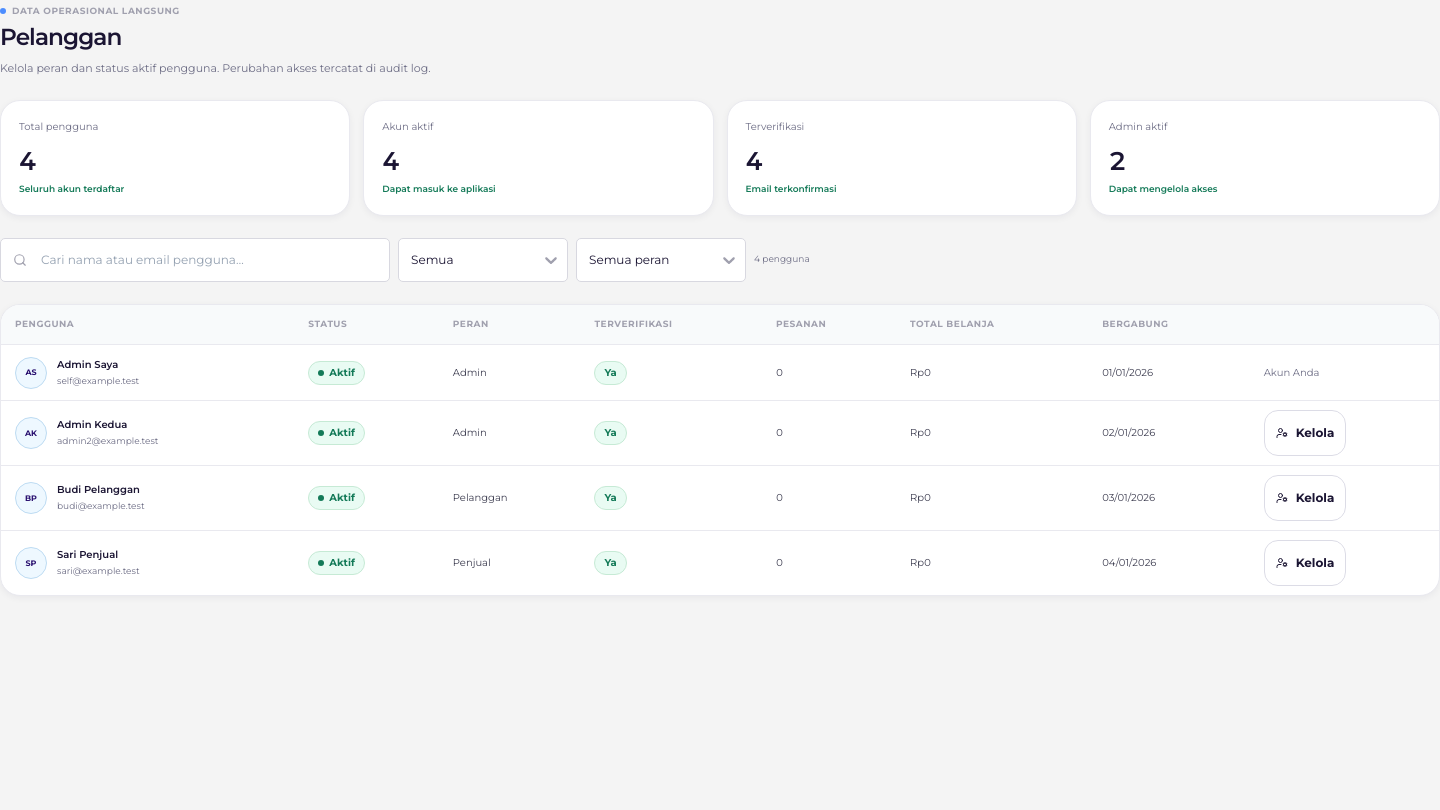
Test: manajemen akses pengguna di /dashboard/customers › menonaktifkan akun dengan konfirmasi dan payload active=false
Expected: the text "Sari Penjual" is shown, [57,548,118,561]
Step 1. Click the button with aria-label "Kelola akses Sari Penjual" → [1305, 563], box [1264,540,1346,586]
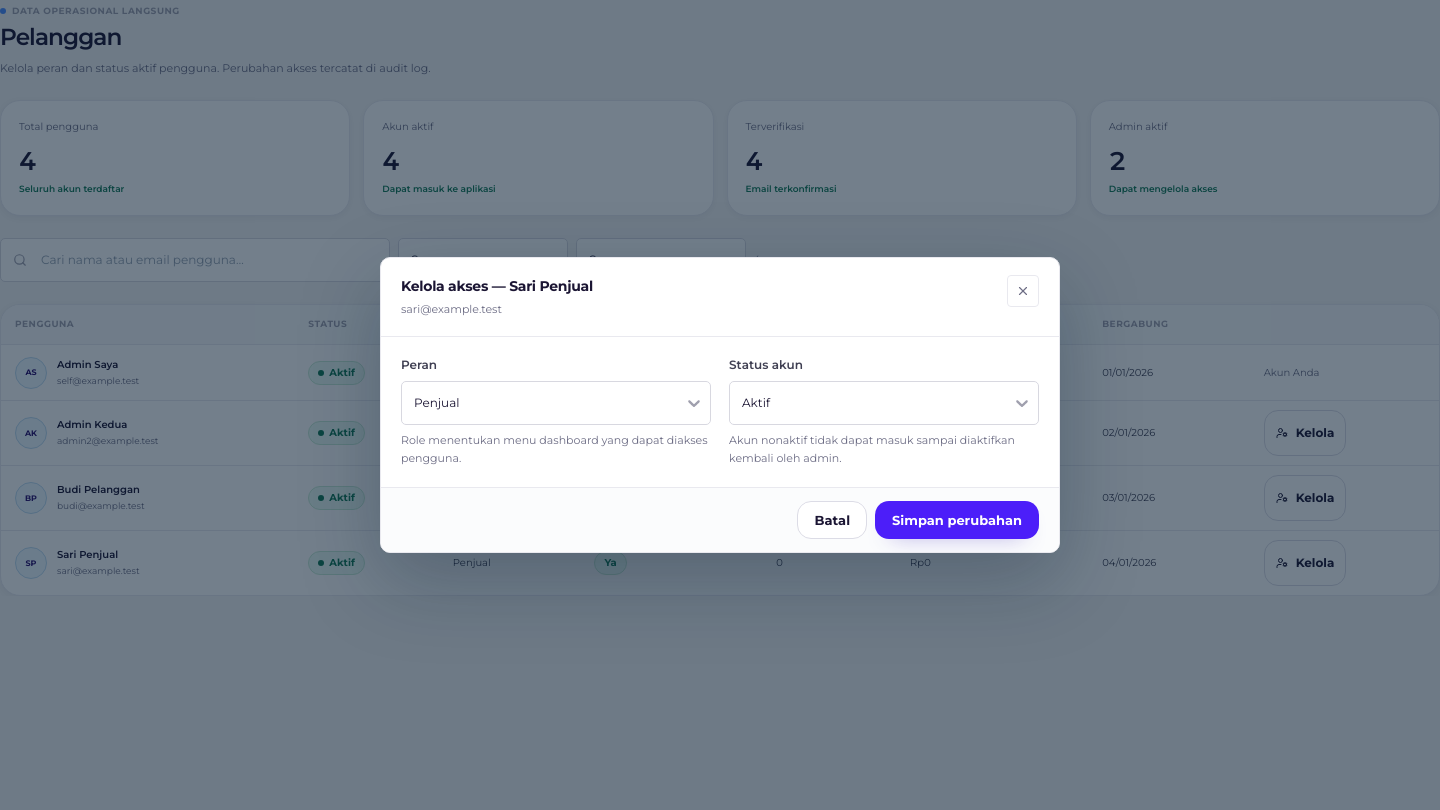
Step 2. Focus the dropdown labelled "Status akun" → [742, 403], box [740,393,743,413]
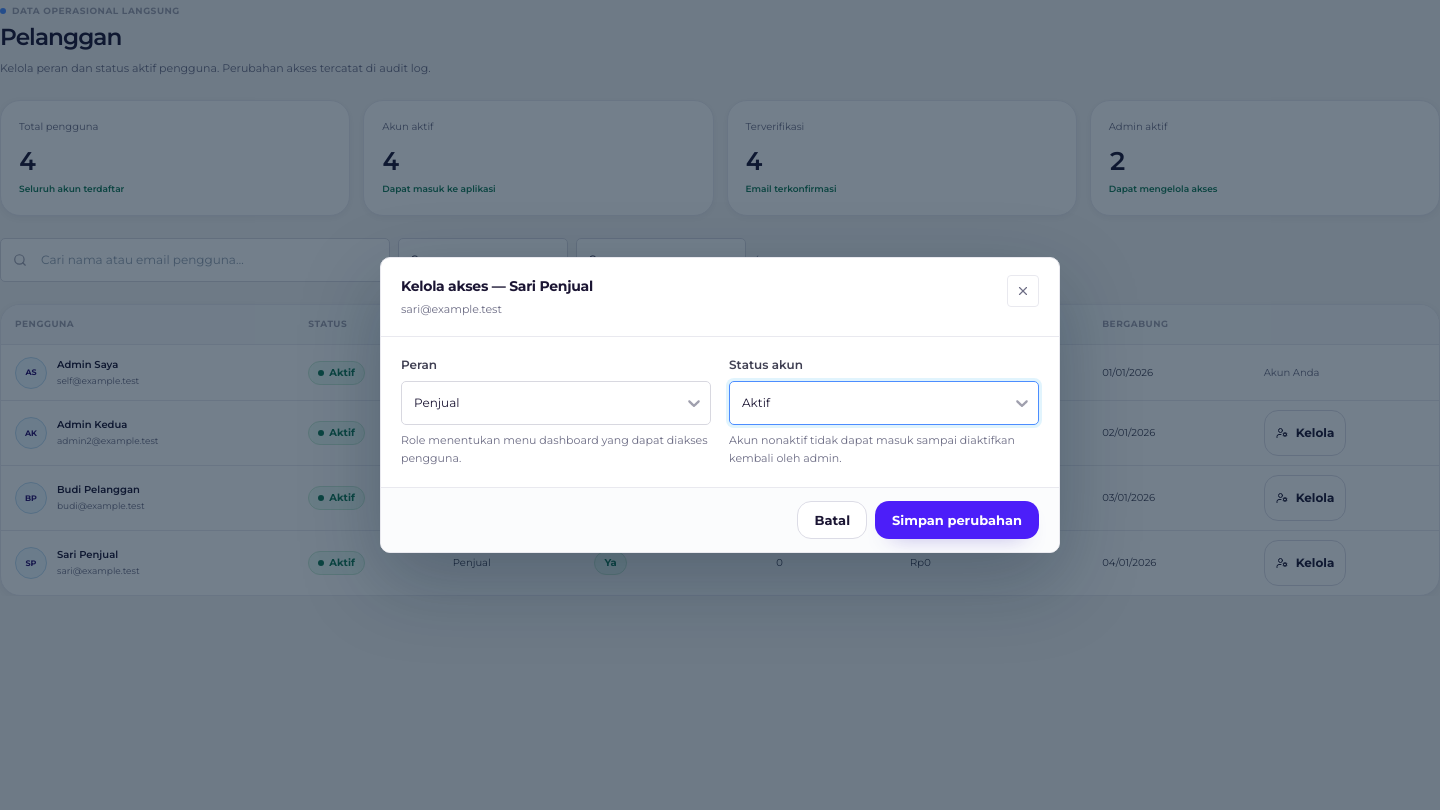
Step 3. Press ArrowDown in the dropdown labelled "Status akun", box [740,393,743,413]
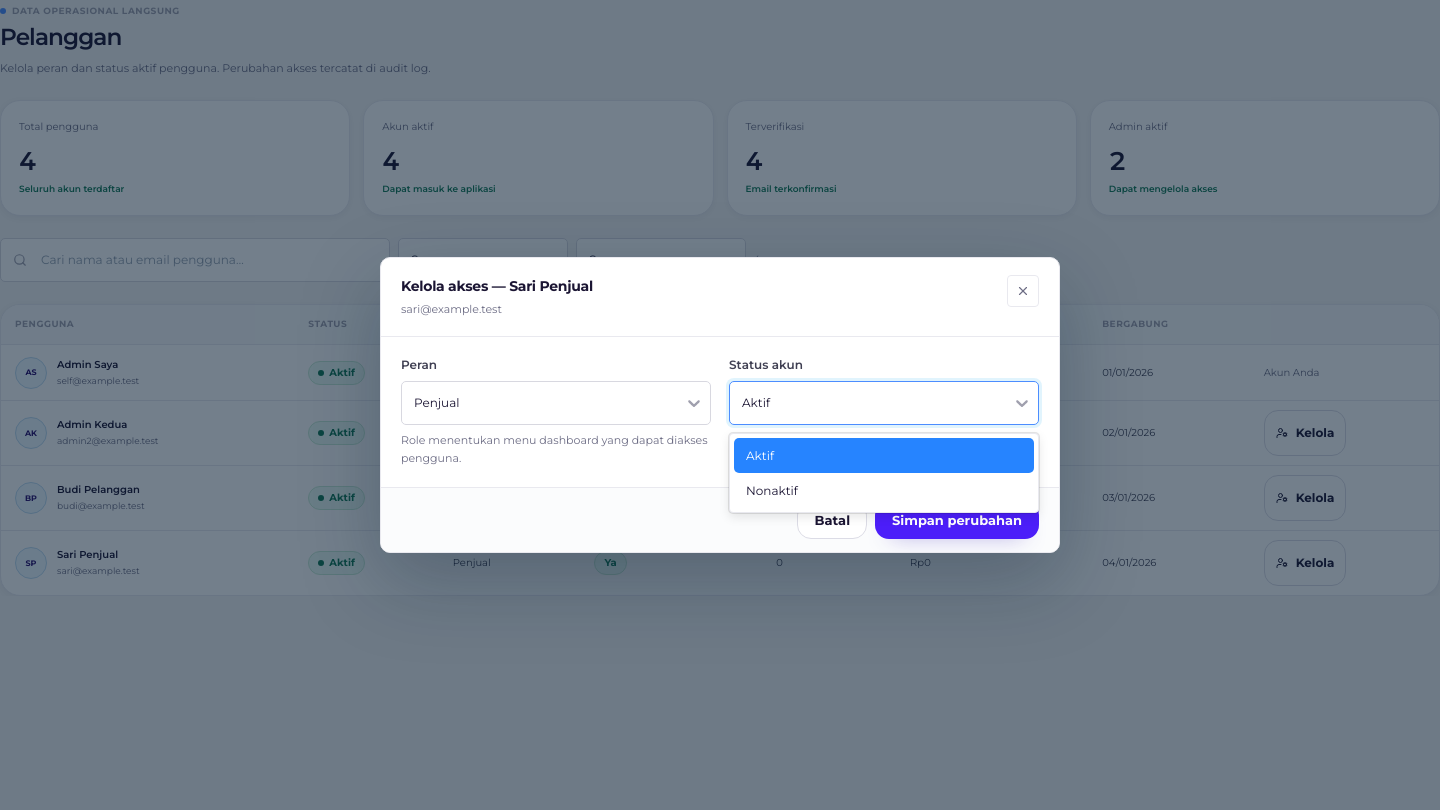
Step 4. Click the option "Nonaktif" → [772, 491], box [746,483,798,498]
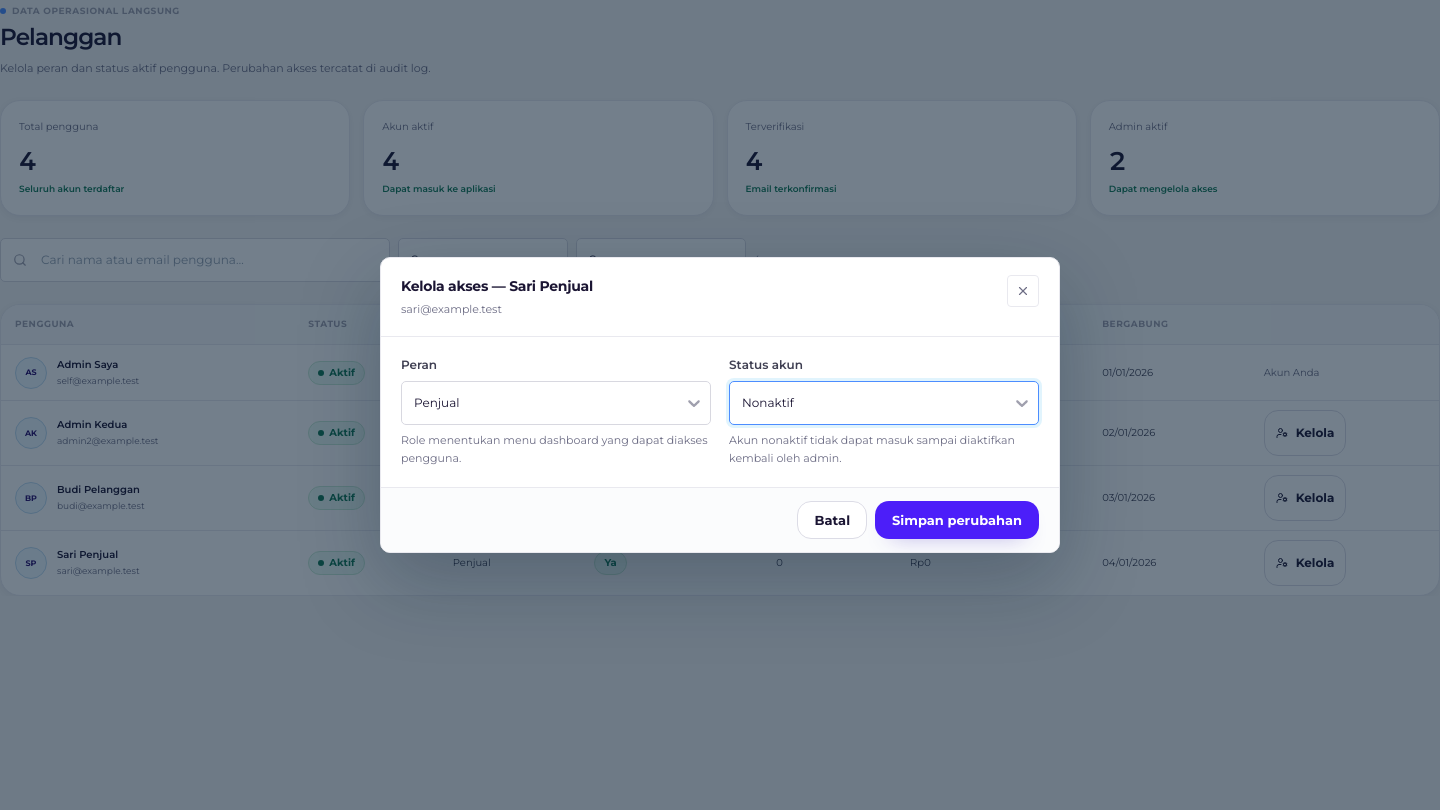
Step 5. Click the button "Simpan perubahan" → [957, 520], box [875,501,1039,539]
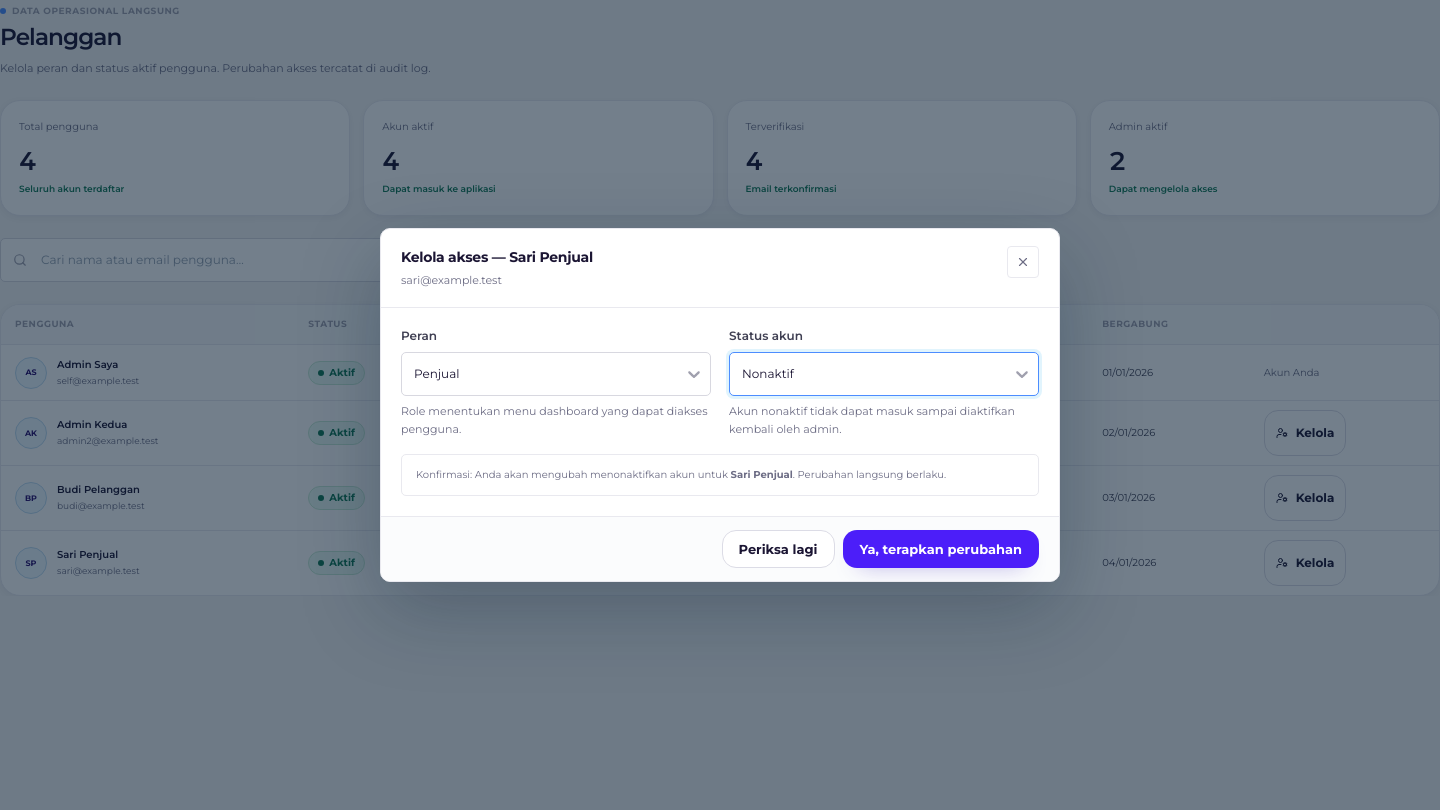
Result: the text "Konfirmasi: Anda akan mengubah menonaktifkan akun" is shown at [401,454,1039,496]
Step 6. Click the button "Ya, terapkan perubahan" → [941, 549], box [842,530,1039,568]
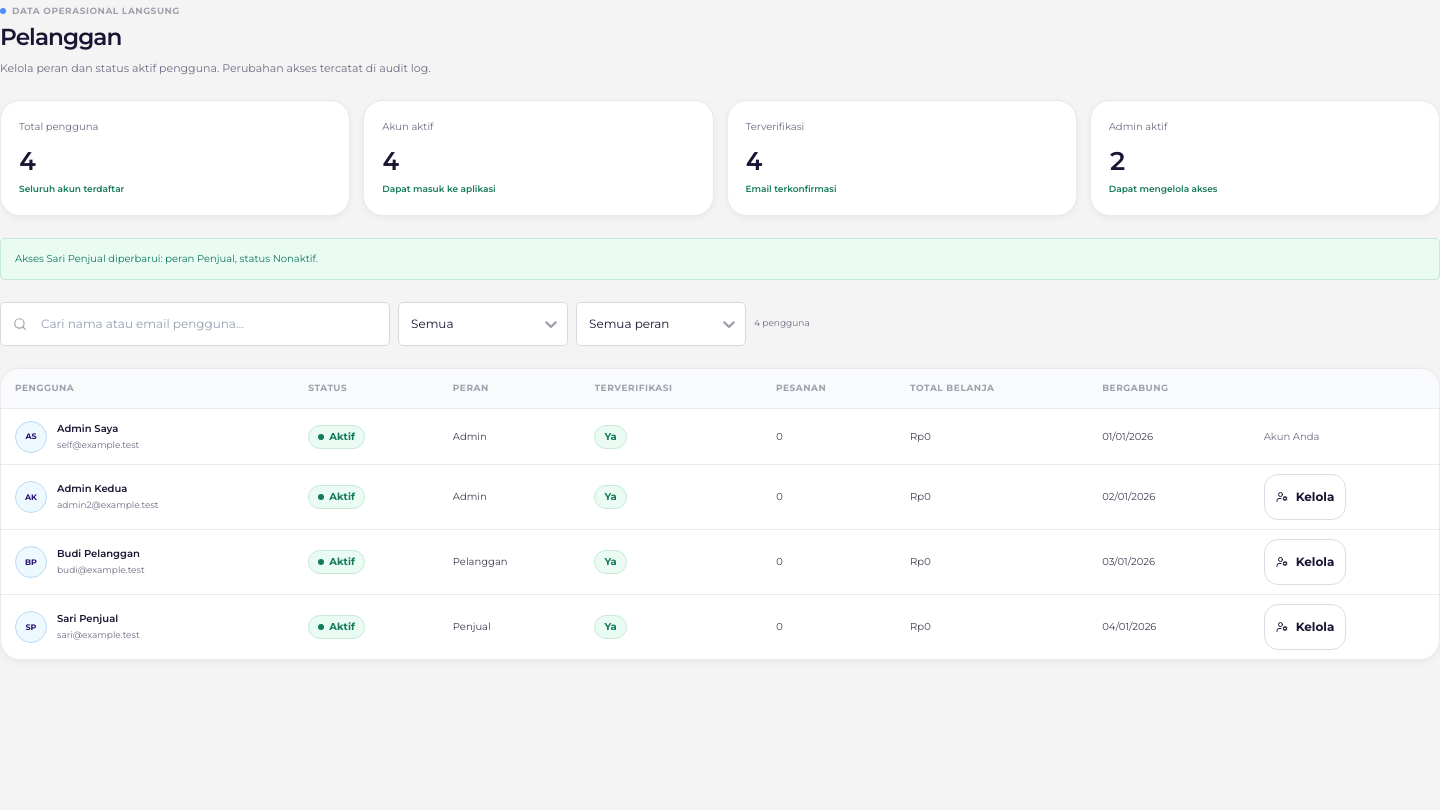
Result: the text "Akses Sari Penjual diperbarui: peran Penjual, status Nonaktif." is shown at [0,238,1439,280]
